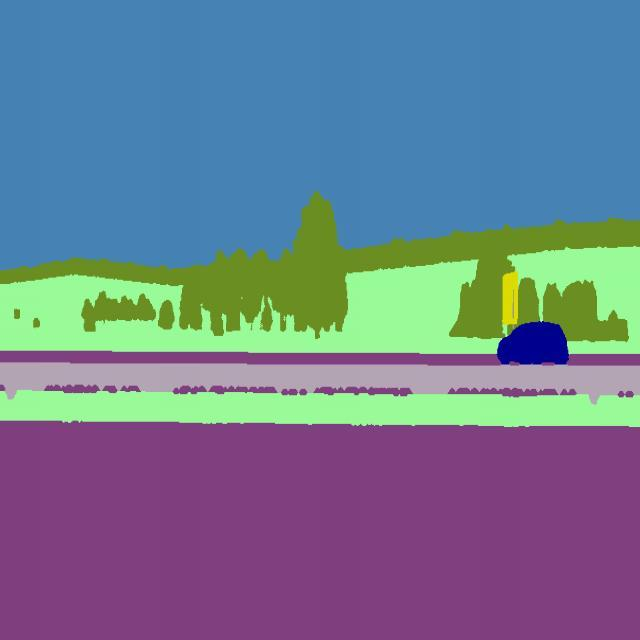safe: (494, 318, 569, 374)
